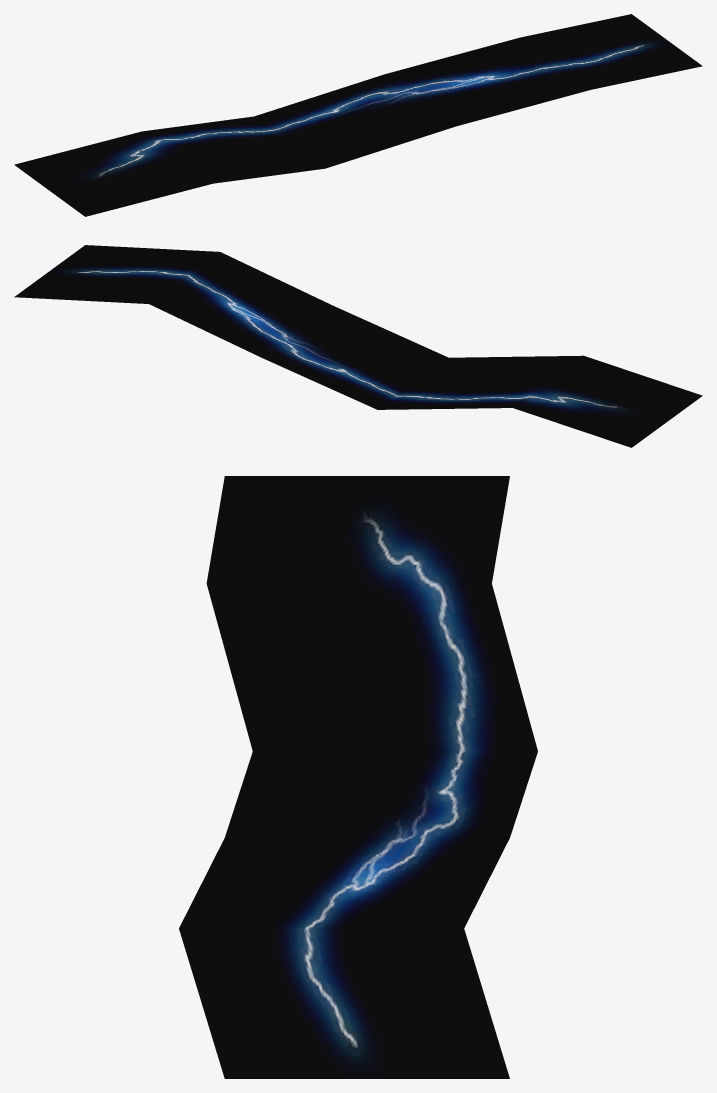
File: Lighting_Spear.FBX
3 renders of one model, top to bottom at view 1: azimuth 30°, elevation 25°; view 2: azimuth 150°, elevation 25°; view 3: azimuth 270°, elevation 25°, orthographic. The views are drawn at different scales.
Visible parts, largest first — view 1: Lighting_Spear; view 2: Lighting_Spear; view 3: Lighting_Spear.
Part boxes in pixels (box(x1,y1,x2,y2)): Lighting_Spear: box(14, 14, 702, 216); Lighting_Spear: box(14, 245, 702, 447); Lighting_Spear: box(179, 476, 537, 1078).
Bounding box in the file's own units: 120 × 5.95 × 30.22.
1 material, 1 textured.
